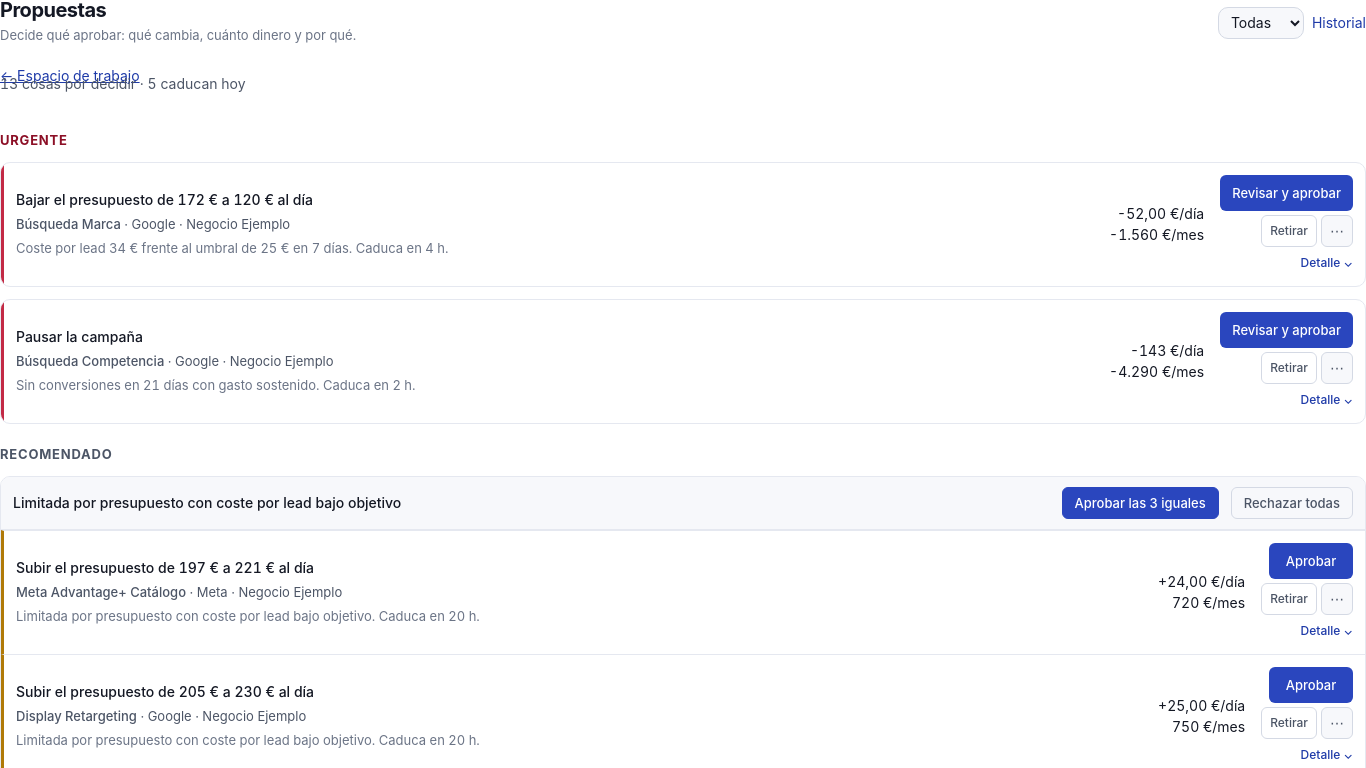
Test case: PropuestasPage › acepta la respuesta real con undo_deadline null y usa la fecha programada
The width and height of the screenshot is (1366, 768).
Expected: the heading "Recomendado" is shown, [0,446,112,462]
Click the button "Aprobar" in the row of "+24,00 €".
click(1311, 560)  # box [1269,542,1353,578]
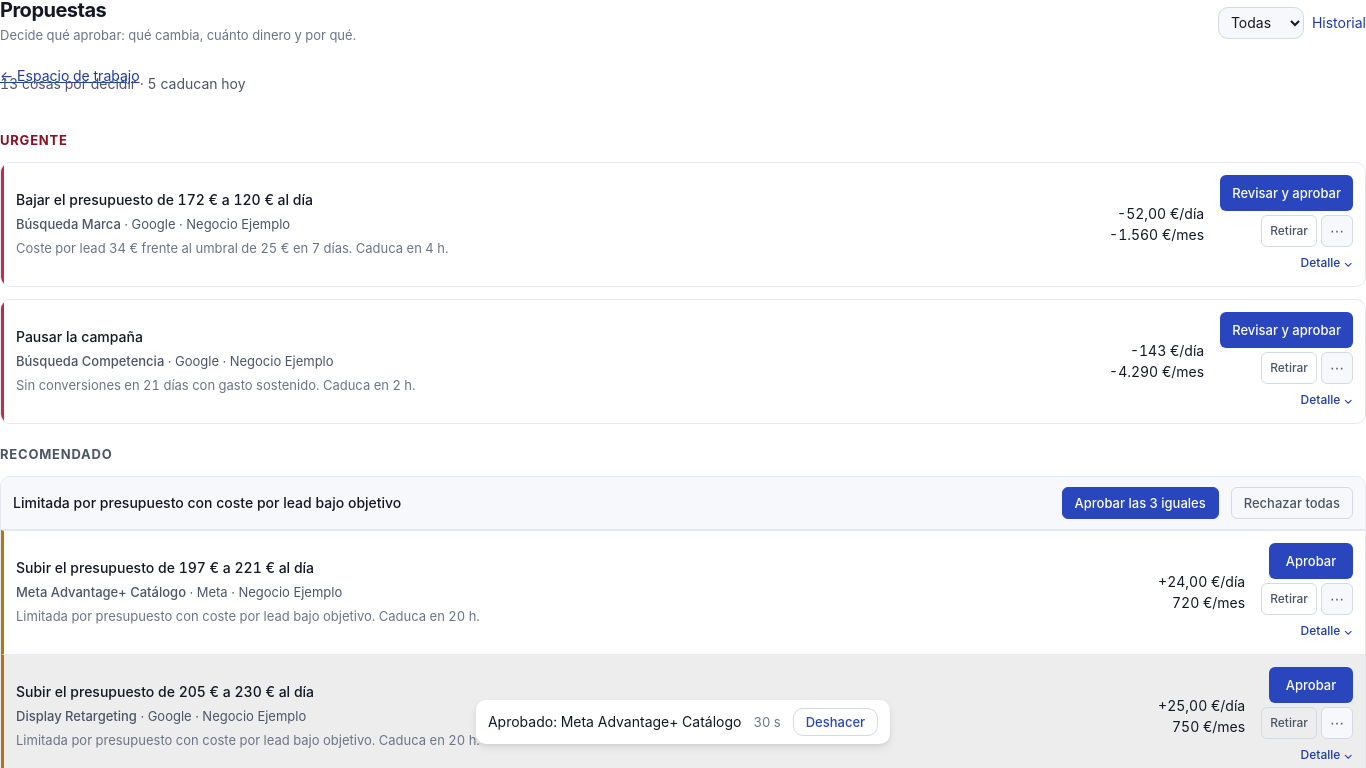
Expected: the button "Deshacer" is shown, [793,708,878,736]
